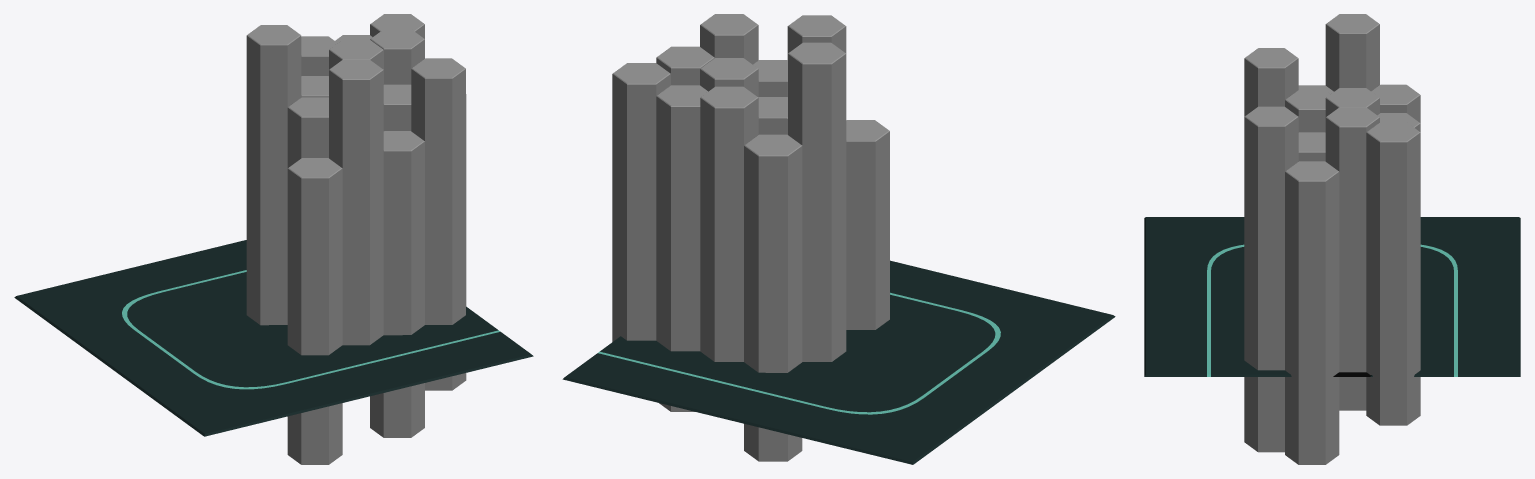
File: Walls_Stump_Var00.fbx
3 views of the same model, side by side, from view 1: azimuth 30°, elevation 25°; view 2: azimuth 150°, elevation 25°; view 3: azimuth 270°, elevation 25° (orthographic). The views are drawn at different scales.
Visible parts, largest first — view 1: Walls_Stump_Var00; view 2: Walls_Stump_Var00; view 3: Walls_Stump_Var00.
Boxes of the visible parts, x1,y1,x2,y2 form: Walls_Stump_Var00: (14,14,533,464); Walls_Stump_Var00: (562,14,1115,464); Walls_Stump_Var00: (1144,14,1520,464).
Size of the model in its own units: 619 by 679 by 600.
